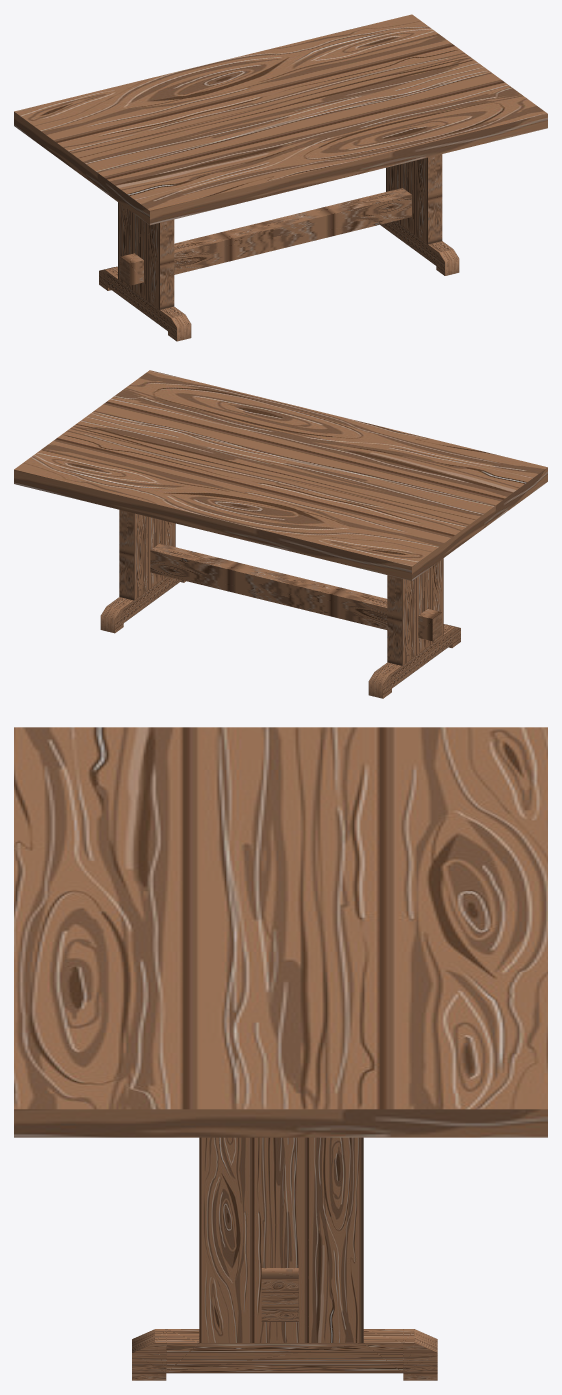
The model's file is Table.fbx.
3 views of the same model, one above another, from view 1: azimuth 30°, elevation 25°; view 2: azimuth 150°, elevation 25°; view 3: azimuth 270°, elevation 25° (orthographic). The views are drawn at different scales.
Visible parts, largest first — view 1: Table Top001; view 2: Table Top001; view 3: Table Top001.
Boxes of the visible parts, box(x1,y1,x2,y2) form: Table Top001: box(14, 14, 547, 341); Table Top001: box(14, 370, 547, 698); Table Top001: box(14, 727, 547, 1380).
Size of the model in its own units: 110 by 65 by 43.98.
1 material, 1 textured.
